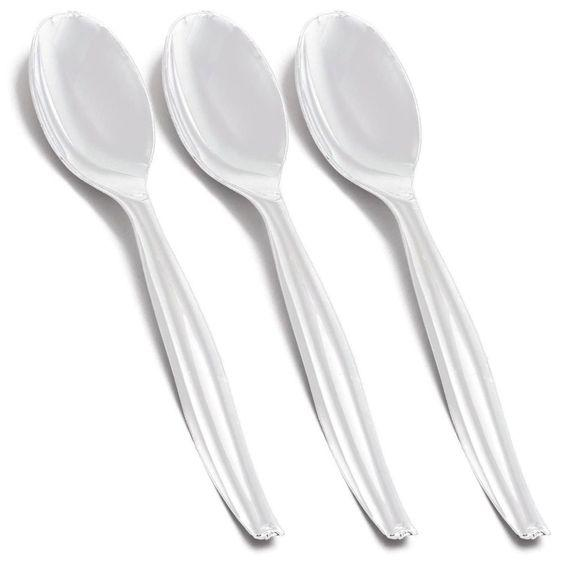PS: (160, 8, 414, 547), (29, 8, 280, 544), (295, 14, 545, 546)
